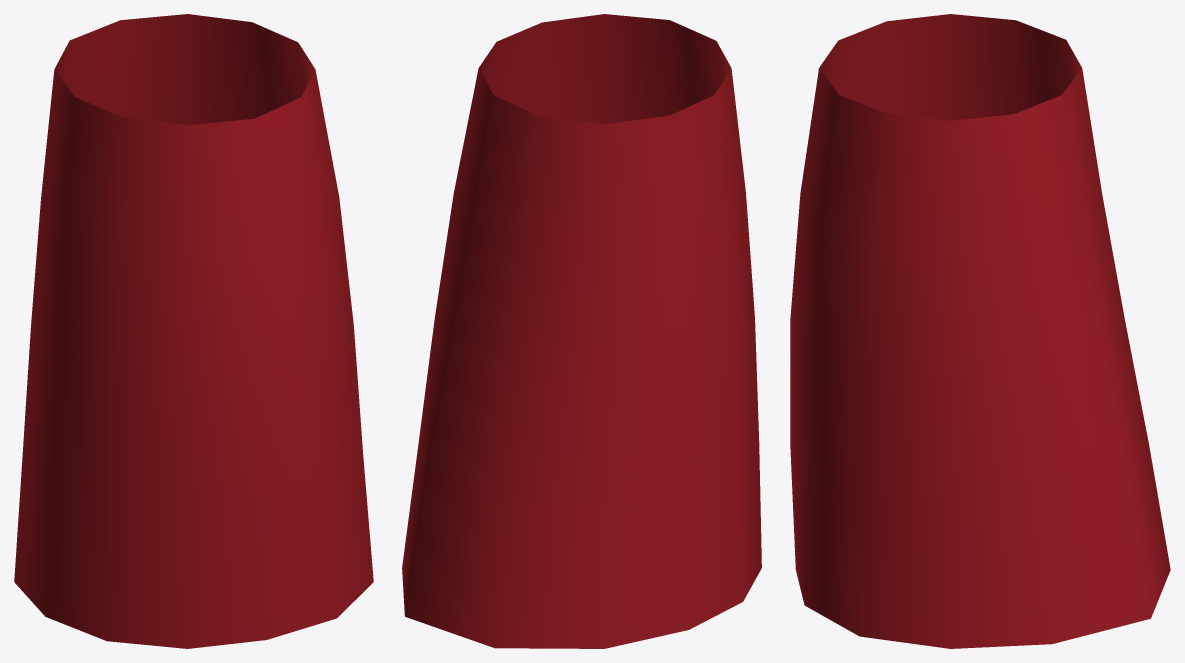
The model's file is santa_costume_cuisse.L.glb.
3 renders of one model, left to right at view 1: azimuth 30°, elevation 25°; view 2: azimuth 150°, elevation 25°; view 3: azimuth 270°, elevation 25°, orthographic. The views are drawn at different scales.
Parts seen in each view (by area): view 1: santa_costume_cuisse.L; view 2: santa_costume_cuisse.L; view 3: santa_costume_cuisse.L.
Boxes of the visible parts, x1,y1,x2,y2 form: santa_costume_cuisse.L: (14,14,373,648); santa_costume_cuisse.L: (402,14,761,648); santa_costume_cuisse.L: (790,14,1170,648).
Bounding box in the file's own units: 0.2326 × 0.37 × 0.2542.
